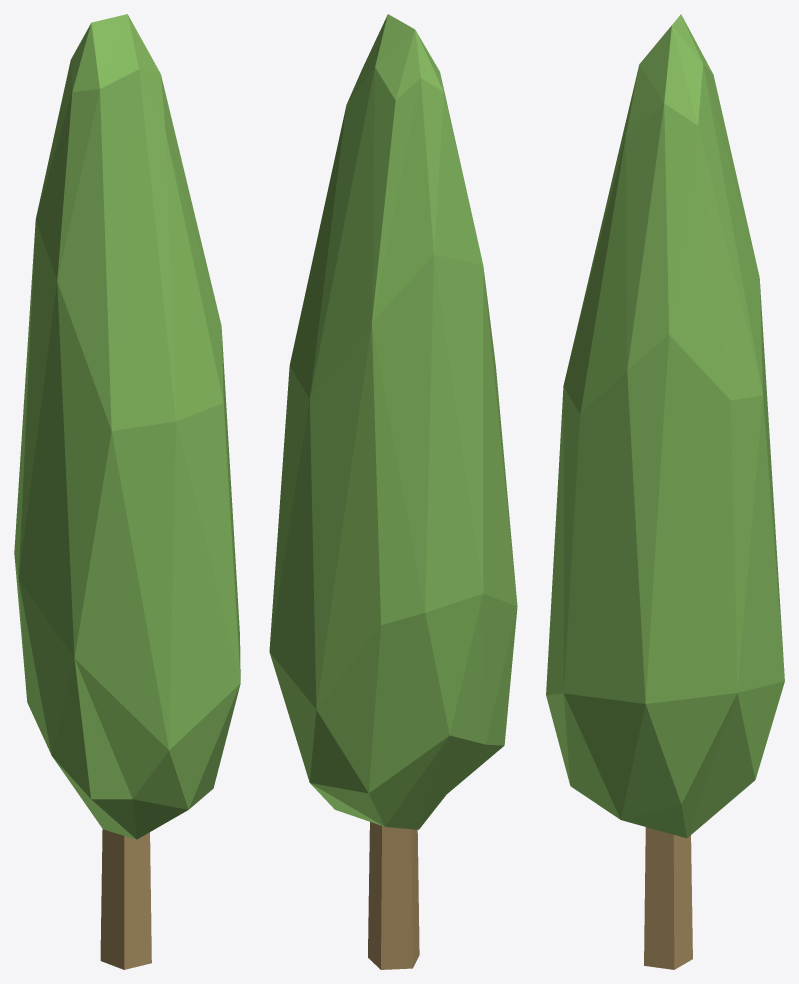
File: Thuja_Tree_m_02.fbx
The picture shows the model from 3 angles, left to right: view 1: azimuth 30°, elevation 25°; view 2: azimuth 150°, elevation 25°; view 3: azimuth 270°, elevation 25°; orthographic projection.
Visible parts, largest first — view 1: Thuja_Tree_m_02; view 2: Thuja_Tree_m_02; view 3: Thuja_Tree_m_02.
Boxes of the visible parts, left/top/right/bottom form: Thuja_Tree_m_02: left=14, top=14, right=240, bottom=969; Thuja_Tree_m_02: left=269, top=14, right=517, bottom=969; Thuja_Tree_m_02: left=546, top=14, right=784, bottom=969.
Bounding box in the file's own units: 114 × 511 × 118.
